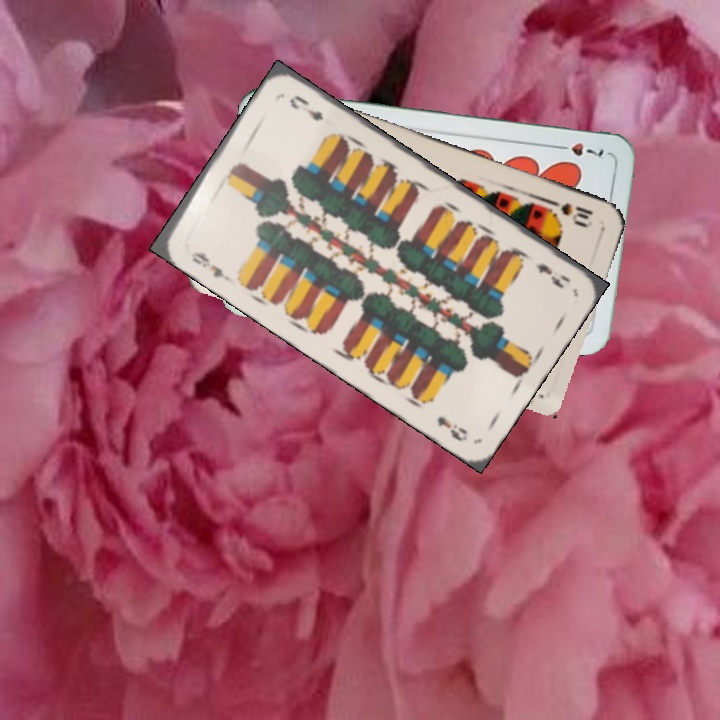E9: (187, 247, 231, 283), (531, 259, 573, 292)
H7: (551, 138, 607, 160)
S10: (545, 196, 596, 227)
